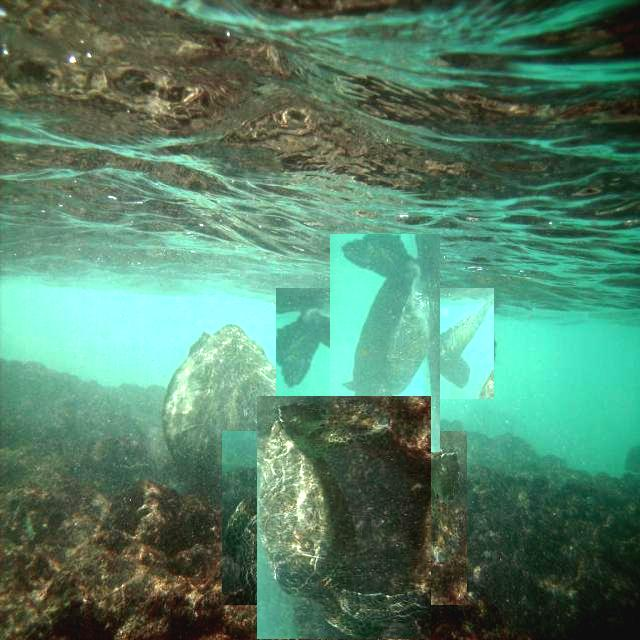Sea turtle: (240, 413, 449, 623), (303, 261, 467, 426)
